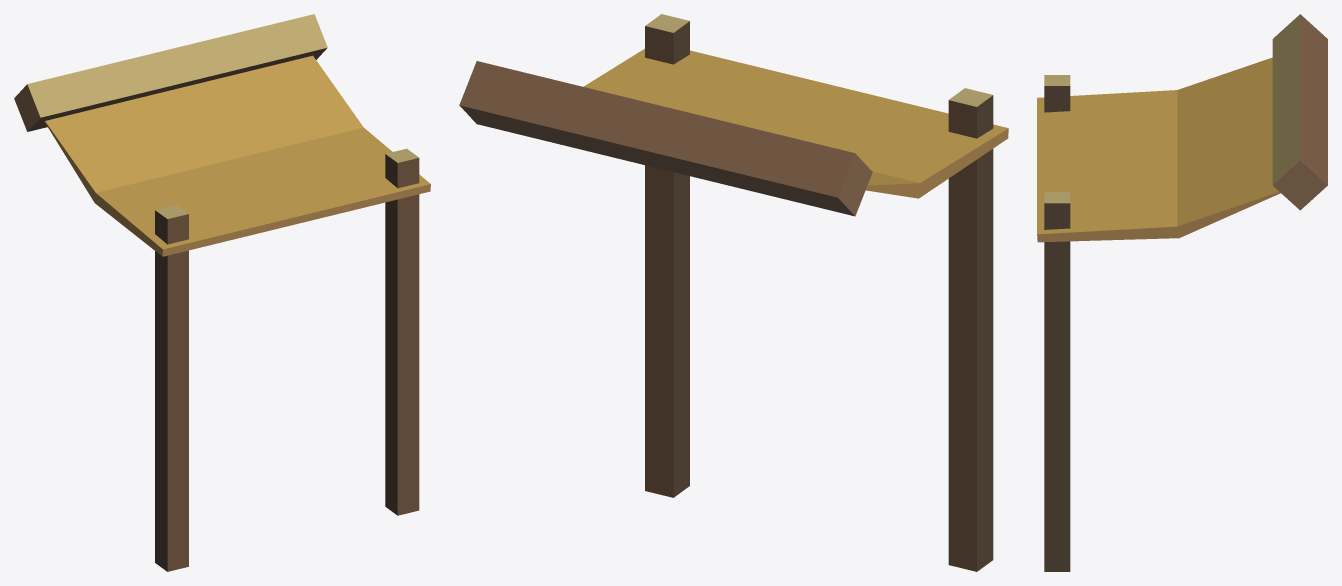
File: TB_D_Bd_Canopy_Leg_D.FBX
The picture shows the model from 3 angles, left to right: view 1: azimuth 30°, elevation 25°; view 2: azimuth 150°, elevation 25°; view 3: azimuth 270°, elevation 25°; orthographic projection. The views are drawn at different scales.
Visible parts, largest first — view 1: TB_D_Bd_Canopy_Leg_D; view 2: TB_D_Bd_Canopy_Leg_D; view 3: TB_D_Bd_Canopy_Leg_D.
Part boxes in pixels (<box>): TB_D_Bd_Canopy_Leg_D: <box>14,14,430,571</box>; TB_D_Bd_Canopy_Leg_D: <box>459,14,1008,571</box>; TB_D_Bd_Canopy_Leg_D: <box>1037,14,1327,571</box>.
Size of the model in its own units: 1.88 by 2.52 by 1.58.
